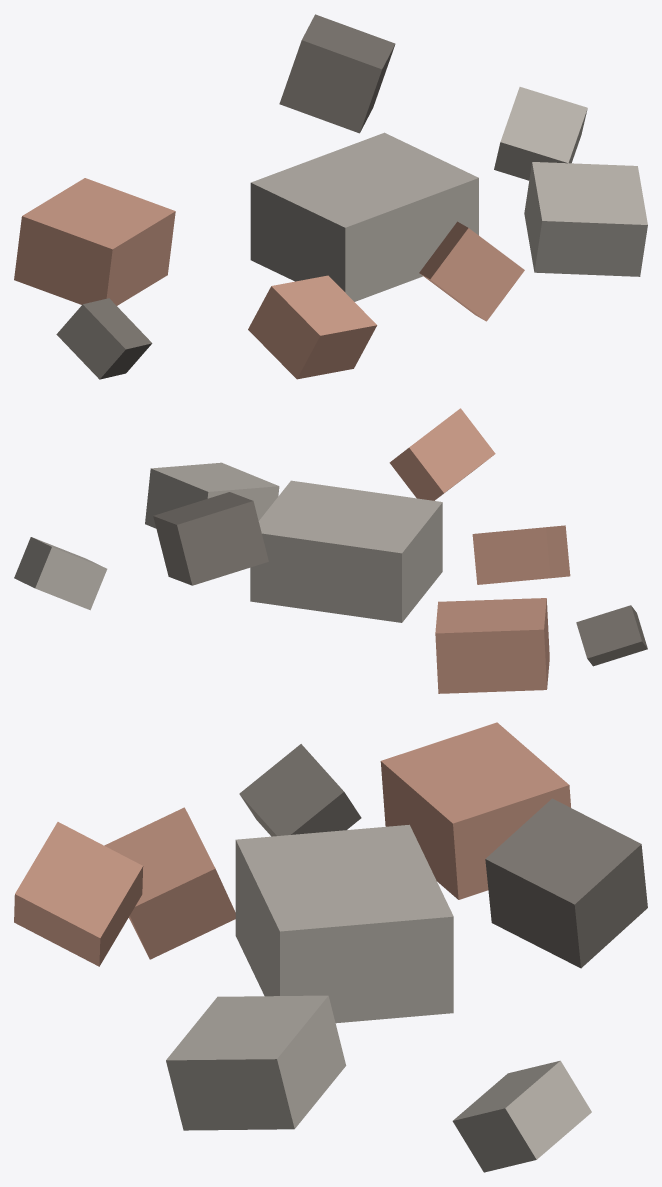
File: damage_debris.glb
3 views of the same model, one above another, from view 1: azimuth 30°, elevation 25°; view 2: azimuth 150°, elevation 25°; view 3: azimuth 270°, elevation 25° (orthographic). The views are drawn at different scales.
Parts seen in each view (by area): view 1: DamageDebris; view 2: DamageDebris; view 3: DamageDebris.
Boxes of the visible parts, box(x1,y1,x2,y2) form: DamageDebris: box(14, 14, 647, 379); DamageDebris: box(14, 408, 647, 693); DamageDebris: box(14, 722, 647, 1172).
Bounding box in the file's own units: 0.9907 × 0.2957 × 0.7144.
